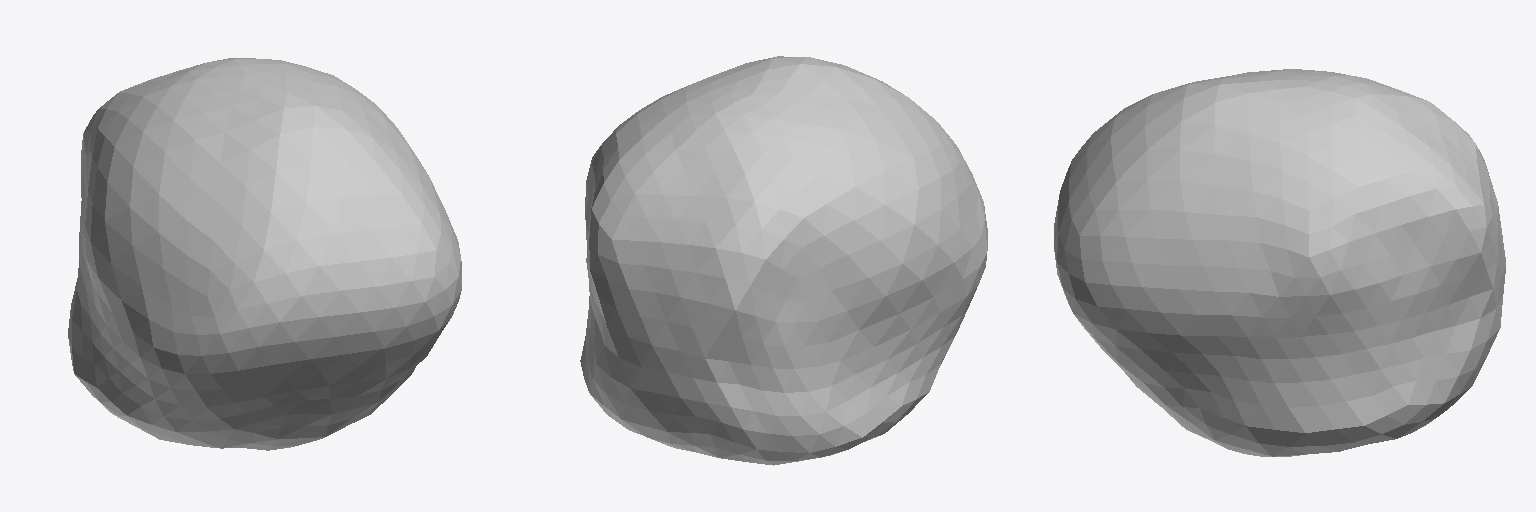
The model's file is stone.obj.
The picture shows the model from 3 angles: view 1: azimuth 30°, elevation 25°; view 2: azimuth 150°, elevation 25°; view 3: azimuth 270°, elevation 25°; orthographic projection.
Visible parts, largest first — view 1: Icosphere; view 2: Icosphere; view 3: Icosphere.
Part boxes in pixels (x1,y1,x2,y2): Icosphere: (68, 58, 461, 450); Icosphere: (580, 56, 987, 465); Icosphere: (1054, 69, 1505, 456).
Size of the model in its own units: 0.2448 by 0.2496 by 0.2996.